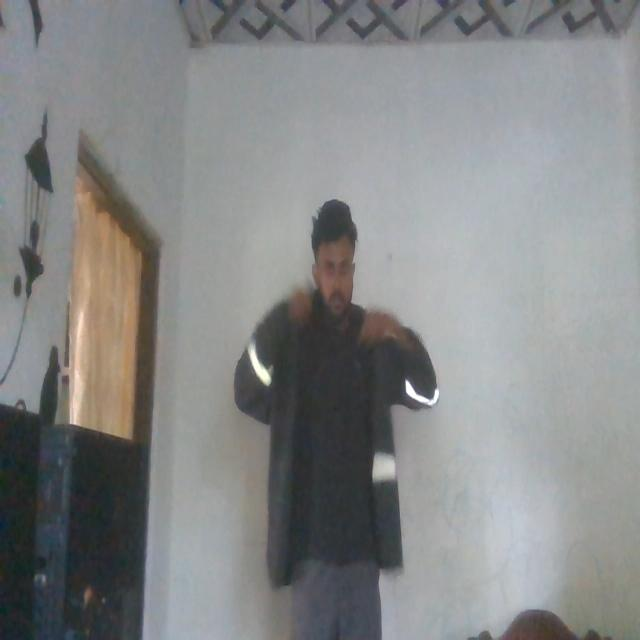Jacket_Wearer: (236, 298, 438, 586)
Person: (234, 192, 432, 640)
